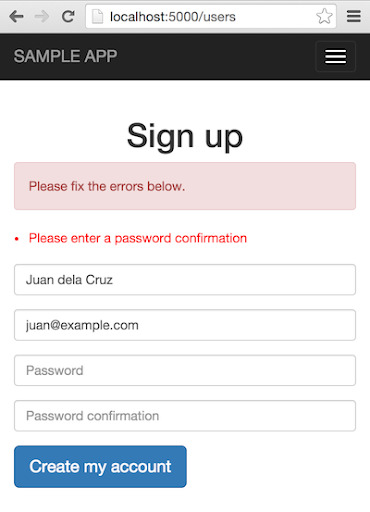error_message: (29, 230, 250, 246), (27, 178, 188, 194)
